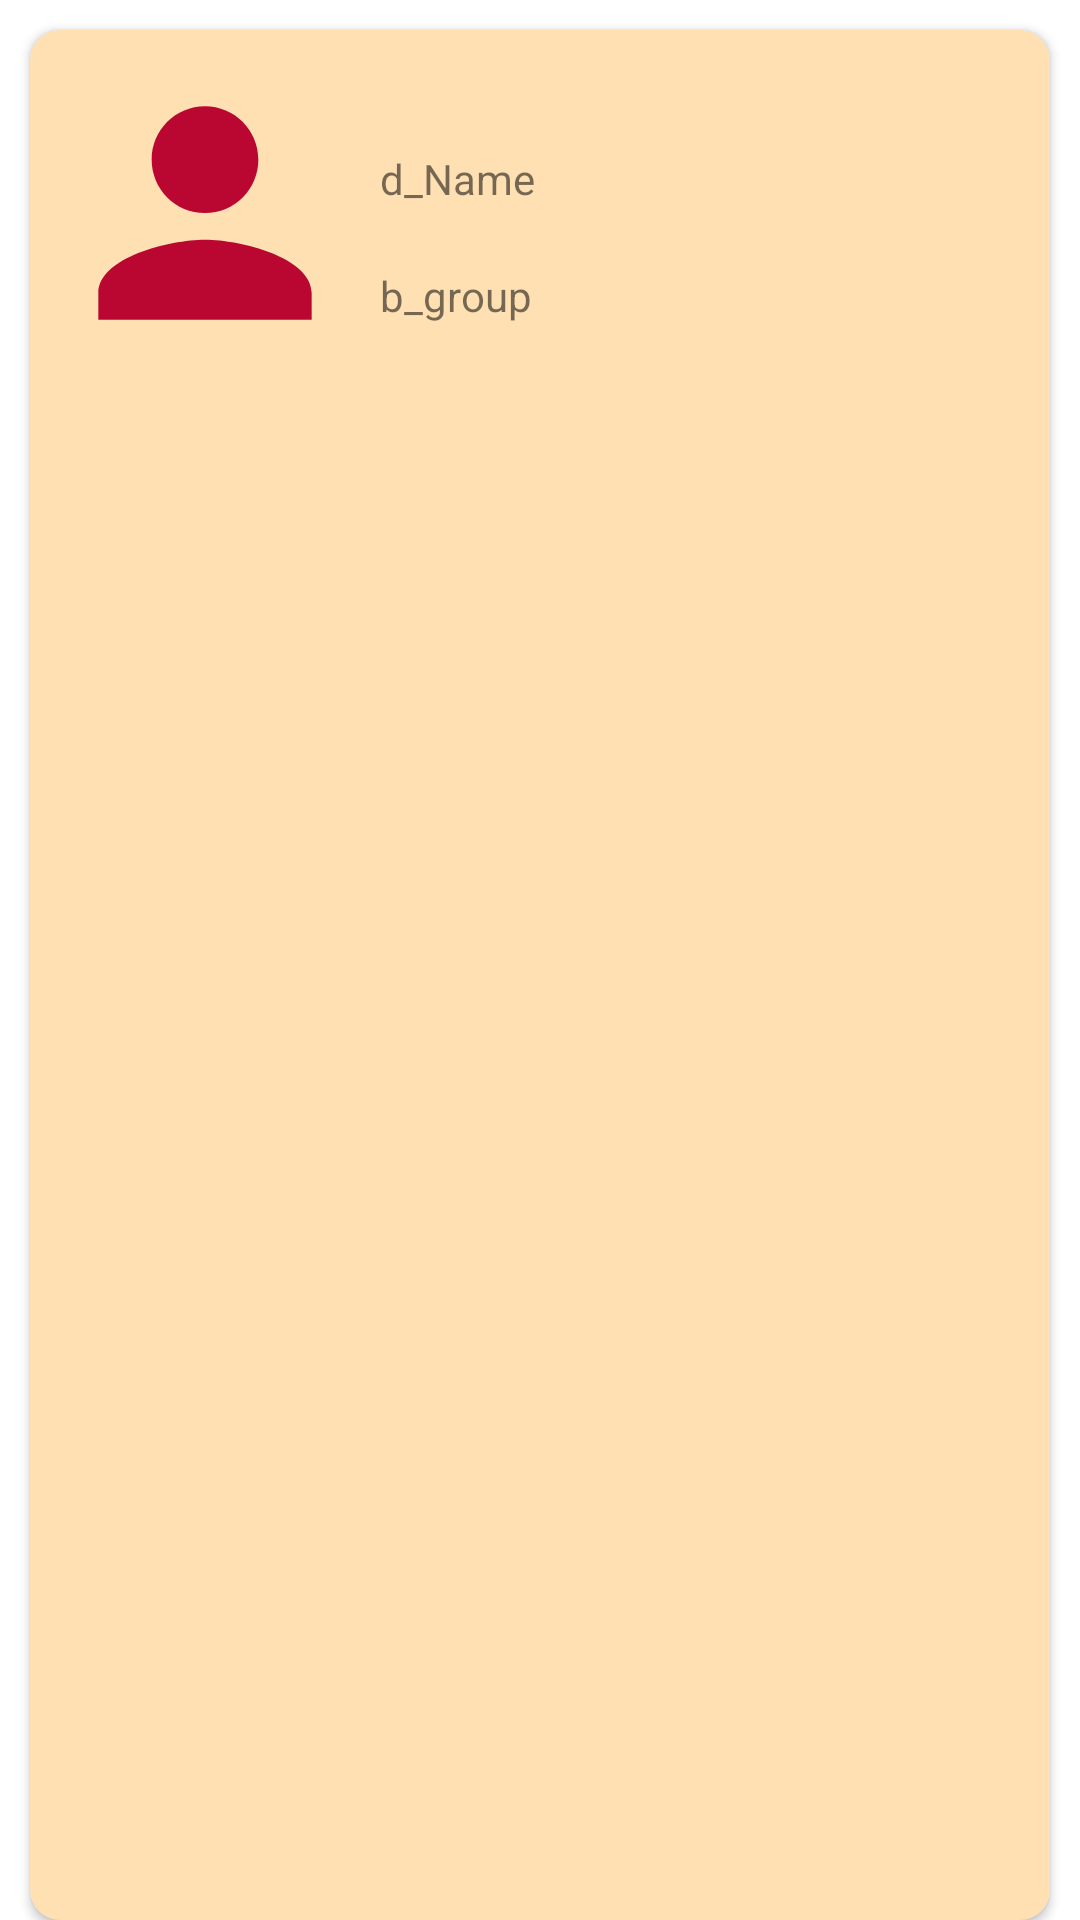

Screen size 1080*1920. Icon name, then its box in pixels as (x1, y1, x2, y2):
person: (98, 106, 312, 320)
